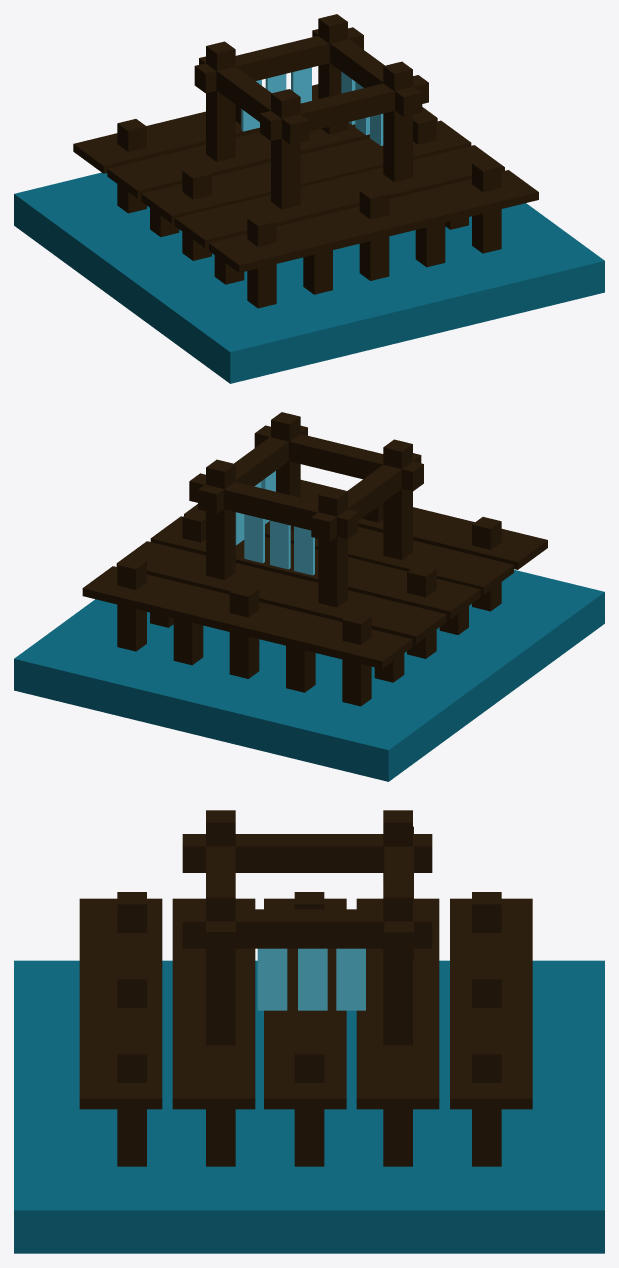
File: Fishery2.obj
3 renders of one model, top to bottom at view 1: azimuth 30°, elevation 25°; view 2: azimuth 150°, elevation 25°; view 3: azimuth 270°, elevation 25°, orthographic. The views are drawn at different scales.
Parts seen in each view (by area): view 1: Tilebase116, Box832, Box833, Box834, Box835, Box852, Box839, Box840, Box815, Box837, Box838, Box841 (+12 smaller); view 2: Tilebase116, Box852, Box835, Box834, Box833, Box832, Box840, Box839, Box836, Box838, Box837, Box841 (+15 smaller); view 3: Tilebase116, Box832, Box852, Box833, Box835, Box834, Box842, Box841, Box836, Box815, Box817, Box820 (+14 smaller).
Part boxes in pixels (bbox=[...]): Tilebase116: bbox=[14, 172, 604, 383]; Box832: bbox=[209, 170, 538, 272]; Box833: bbox=[174, 145, 504, 247]; Box834: bbox=[141, 120, 471, 223]; Box835: bbox=[107, 107, 437, 198]; Box852: bbox=[73, 84, 318, 173]; Box839: bbox=[260, 75, 428, 140]; Box840: bbox=[194, 27, 363, 93]; Box815: bbox=[383, 61, 412, 181]; Box837: bbox=[271, 89, 300, 209]; Box838: bbox=[206, 41, 235, 161]; Box841: bbox=[199, 56, 308, 144]; Tilebase116: bbox=[14, 569, 604, 781]; Box852: bbox=[82, 566, 412, 668]; Box835: bbox=[116, 541, 446, 644]; Box834: bbox=[150, 516, 480, 619]; Box833: bbox=[184, 504, 513, 594]; Box832: bbox=[300, 480, 547, 569]; Box840: bbox=[189, 473, 358, 539]; Box839: bbox=[254, 425, 423, 491]; Box836: bbox=[206, 459, 235, 579]; Box838: bbox=[318, 487, 347, 607]; Box837: bbox=[383, 439, 412, 559]; Box841: bbox=[311, 453, 421, 541]; Tilebase116: bbox=[14, 960, 604, 1253]; Box832: bbox=[79, 898, 162, 1109]; Box852: bbox=[450, 898, 532, 1109]; Box833: bbox=[172, 898, 255, 1109]; Box835: bbox=[356, 898, 439, 1109]; Box834: bbox=[264, 898, 346, 1109]; Box842: bbox=[182, 909, 432, 948]; Box841: bbox=[182, 834, 432, 872]; Box836: bbox=[383, 885, 412, 1045]; Box815: bbox=[206, 885, 235, 1045]; Box817: bbox=[294, 1041, 324, 1166]; Box820: bbox=[472, 1041, 501, 1166].
Bounding box in the file's own units: 10 × 5.14 × 10.
